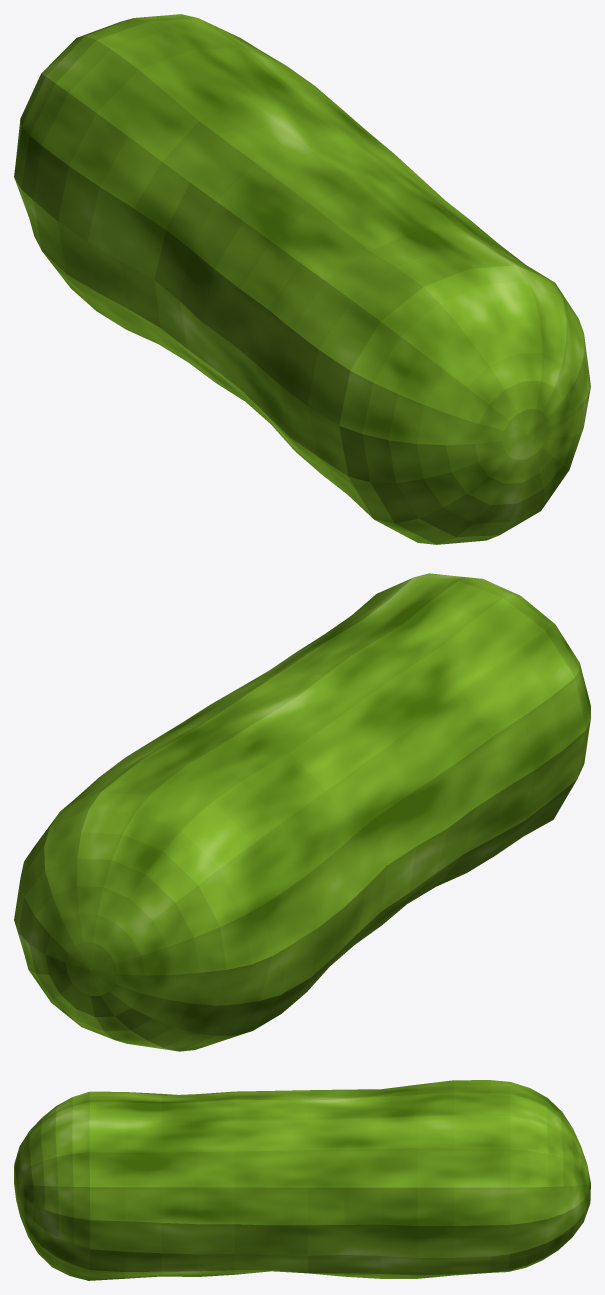
File: Cucumber.fbx
3 views of the same model, one above another, from view 1: azimuth 30°, elevation 25°; view 2: azimuth 150°, elevation 25°; view 3: azimuth 270°, elevation 25° (orthographic). The views are drawn at different scales.
Visible parts, largest first — view 1: Cucumber; view 2: Cucumber; view 3: Cucumber.
Boxes of the visible parts, box(x1,y1,x2,y2) form: Cucumber: box(14, 14, 590, 544); Cucumber: box(14, 573, 590, 1051); Cucumber: box(14, 1080, 590, 1280).
Size of the model in its own units: 170 by 170 by 482.
